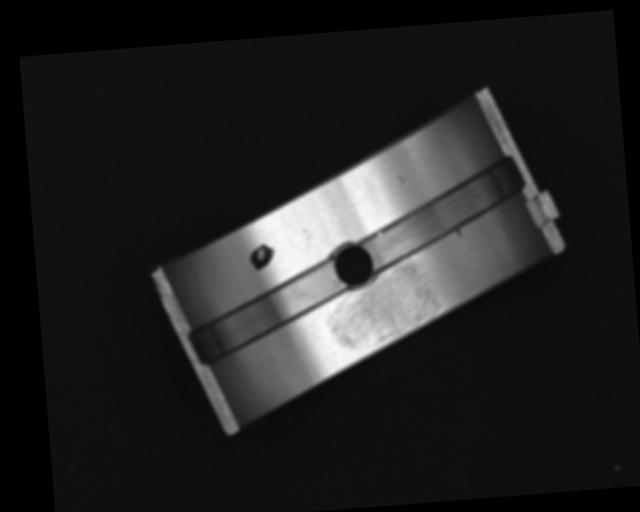blot: (248, 243, 277, 273)
bruise: (452, 224, 464, 239), (395, 174, 405, 186)
gap: (349, 153, 524, 277), (184, 253, 355, 376)
hole: (327, 236, 382, 292)
scratch: (319, 255, 443, 353)
